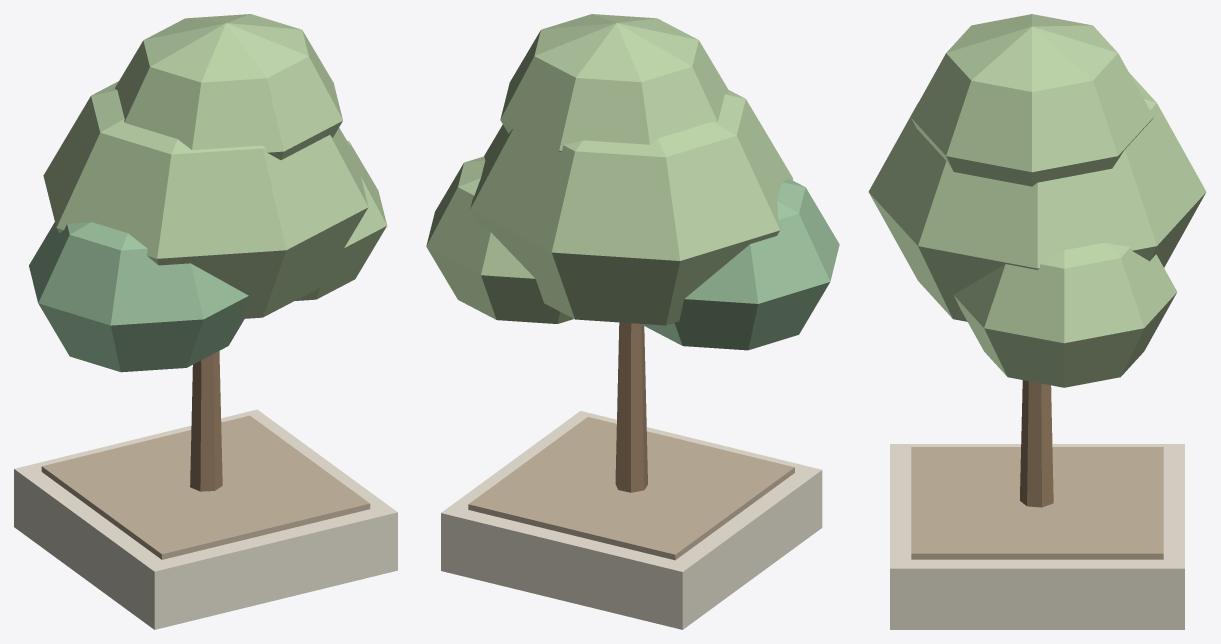
Rendered from Planters07.glb.
The picture shows the model from 3 angles, left to right: view 1: azimuth 30°, elevation 25°; view 2: azimuth 150°, elevation 25°; view 3: azimuth 270°, elevation 25°; orthographic projection. The views are drawn at different scales.
Parts seen in each view (by area): view 1: Planters07; view 2: Planters07; view 3: Planters07.
Part boxes in pixels (left/top/right/bottom): Planters07: left=14, top=14, right=397, bottom=629; Planters07: left=426, top=14, right=839, bottom=629; Planters07: left=868, top=14, right=1206, bottom=629.
Size of the model in its own units: 2.52 by 3.41 by 1.9.
